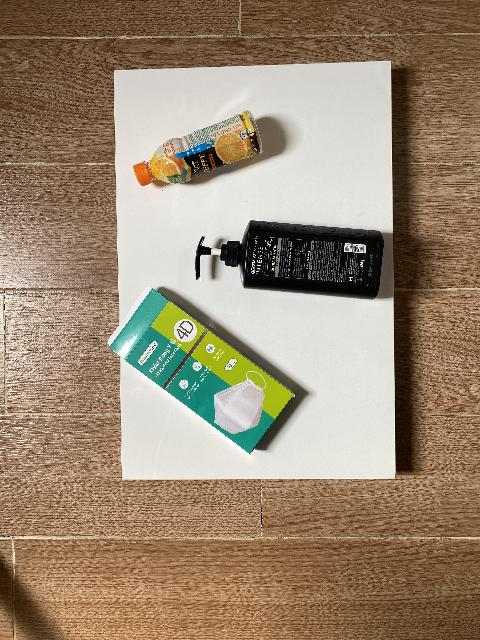4D_medical_face-mask: (110, 289, 295, 454)
X-men: (195, 221, 384, 300)
teppy_orange_juice: (134, 110, 262, 186)
